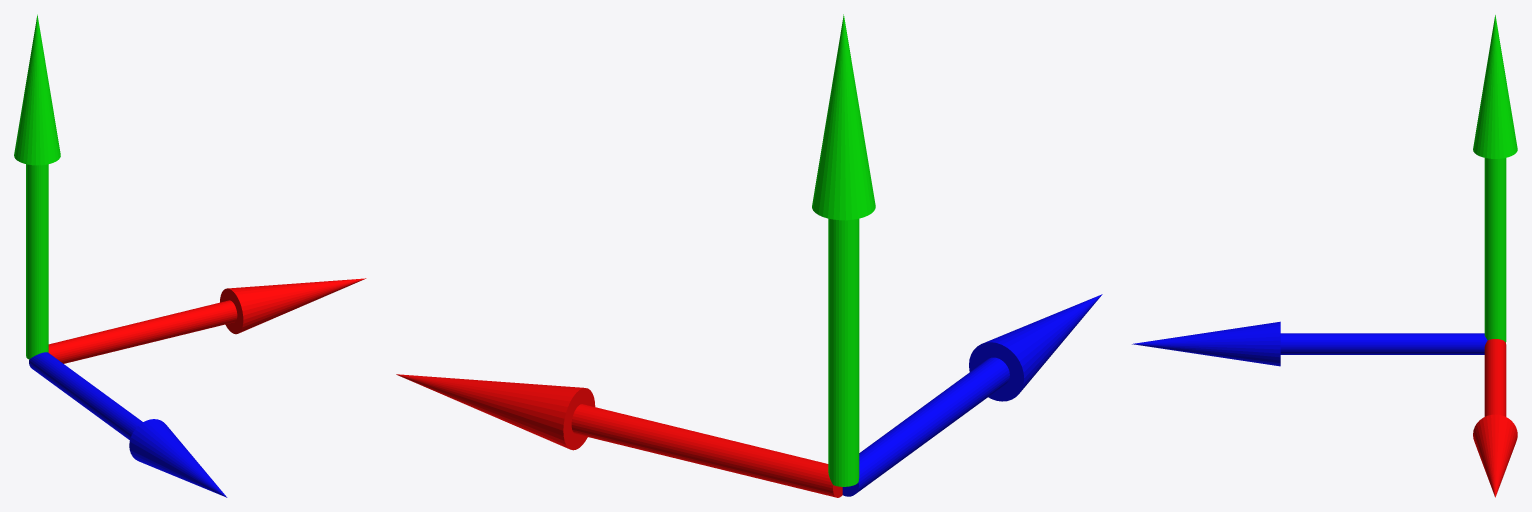
File: gizmo.glb
3 renders of one model, left to right at view 1: azimuth 30°, elevation 25°; view 2: azimuth 150°, elevation 25°; view 3: azimuth 270°, elevation 25°, orthographic. The views are drawn at different scales.
Visible parts, largest first — view 1: y, x, z; view 2: y, x, z; view 3: z, y, x.
Boxes of the visible parts, <box> form: y: <box>14,14,60,359</box>; x: <box>48,278,366,363</box>; z: <box>29,352,227,497</box>; y: <box>812,14,875,486</box>; x: <box>396,374,842,497</box>; z: <box>842,294,1102,496</box>; z: <box>1132,321,1487,366</box>; y: <box>1473,15,1517,342</box>; x: <box>1473,339,1517,497</box>.
Bounding box in the file's own units: 1.07 × 1.07 × 1.07.
